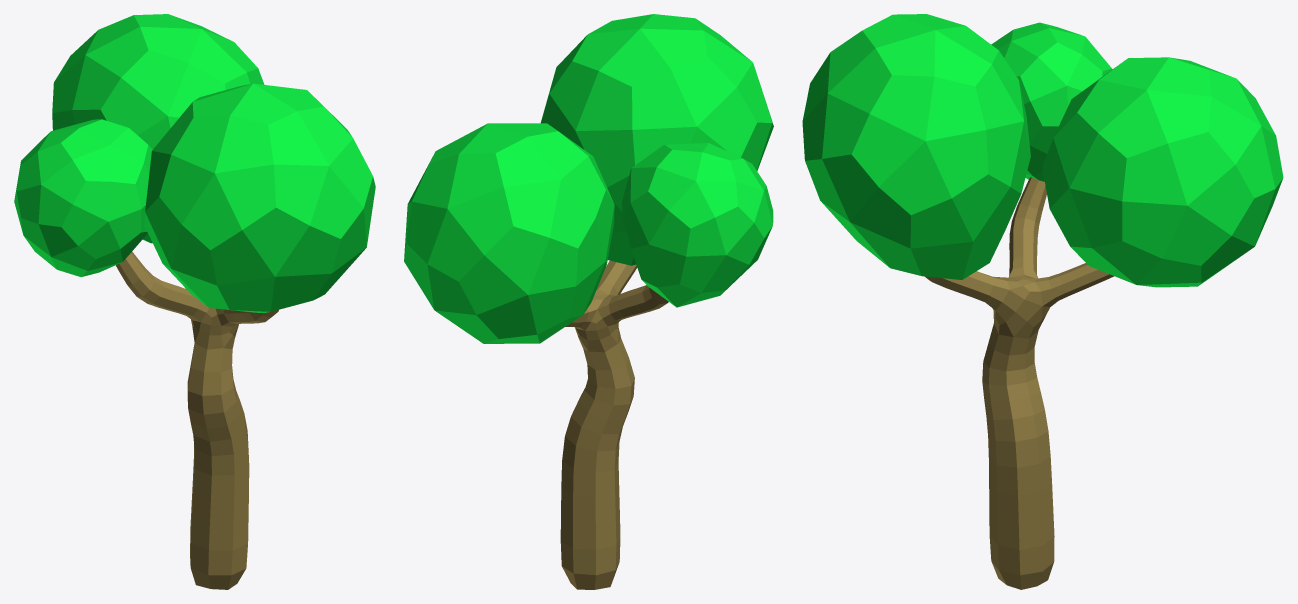
File: Tree04.fbx
The picture shows the model from 3 angles, left to right: view 1: azimuth 30°, elevation 25°; view 2: azimuth 150°, elevation 25°; view 3: azimuth 270°, elevation 25°; orthographic projection. The views are drawn at different scales.
Visible parts, largest first — view 1: Tree06; view 2: Tree06; view 3: Tree06.
Boxes of the visible parts, box(x1,y1,x2,y2) form: Tree06: box(14, 14, 375, 589); Tree06: box(404, 14, 773, 589); Tree06: box(802, 14, 1283, 589).
Size of the model in its own units: 2.96 by 5.15 by 4.11.
